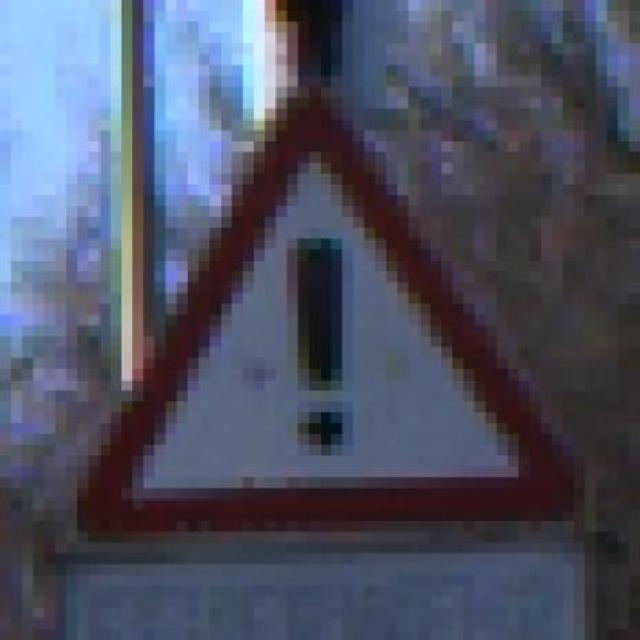Attention Please-: (44, 87, 585, 542)
